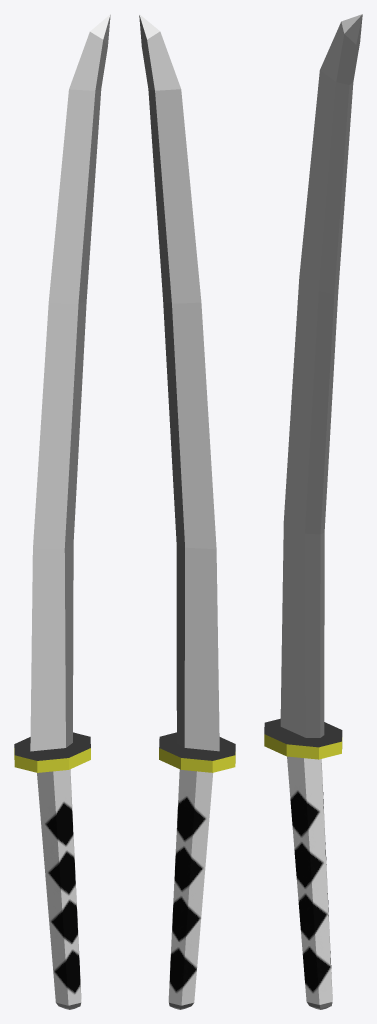
The model's file is katana.fbx.
3 views of the same model, side by side, from view 1: azimuth 30°, elevation 25°; view 2: azimuth 150°, elevation 25°; view 3: azimuth 330°, elevation 25° (orthographic). The views are drawn at different scales.
Visible parts, largest first — view 1: katana; view 2: katana; view 3: katana.
Boxes of the visible parts, x1,y1,x2,y2 form: katana: (14, 14, 110, 1009); katana: (139, 14, 235, 1009); katana: (264, 14, 362, 1009).
Bounding box in the file's own units: 0.6746 × 6.61 × 0.3968.
